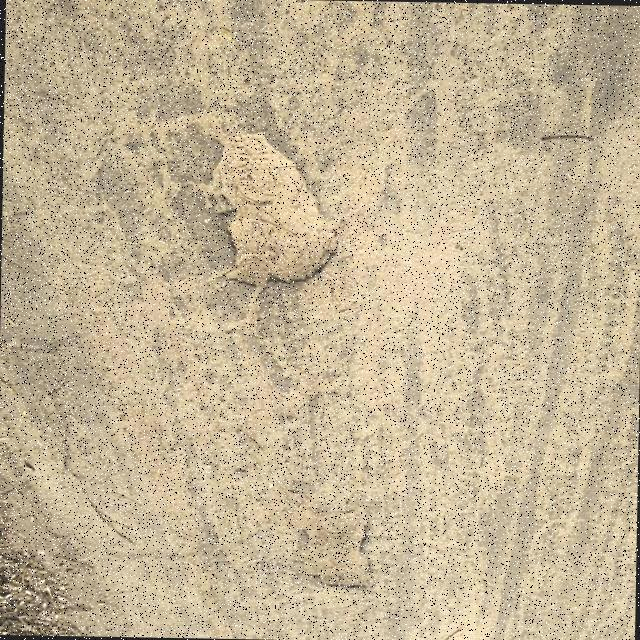Pothole: (209, 135, 336, 283), (301, 522, 375, 589)
